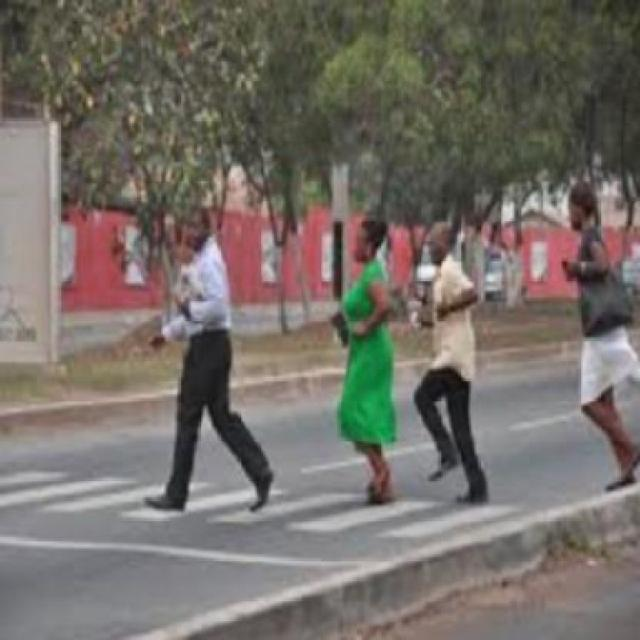Person: (143, 202, 280, 513), (560, 175, 638, 496), (413, 216, 493, 509), (333, 210, 399, 508)
